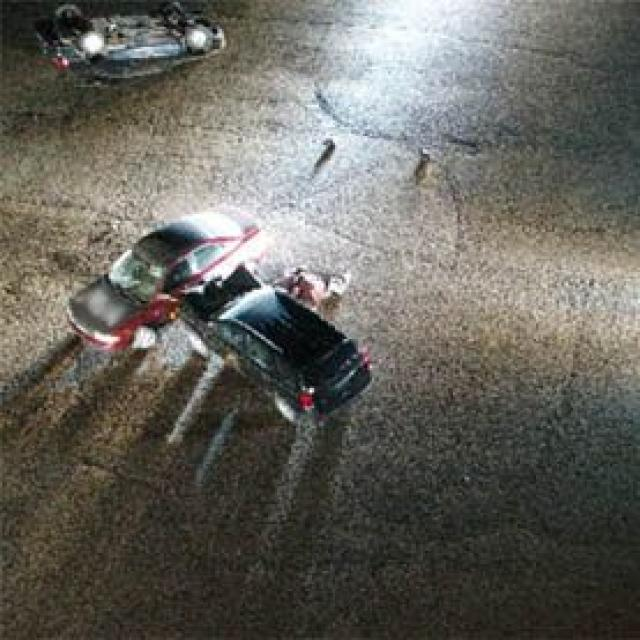traffic_incident: (86, 207, 377, 437), (18, 2, 234, 89)
